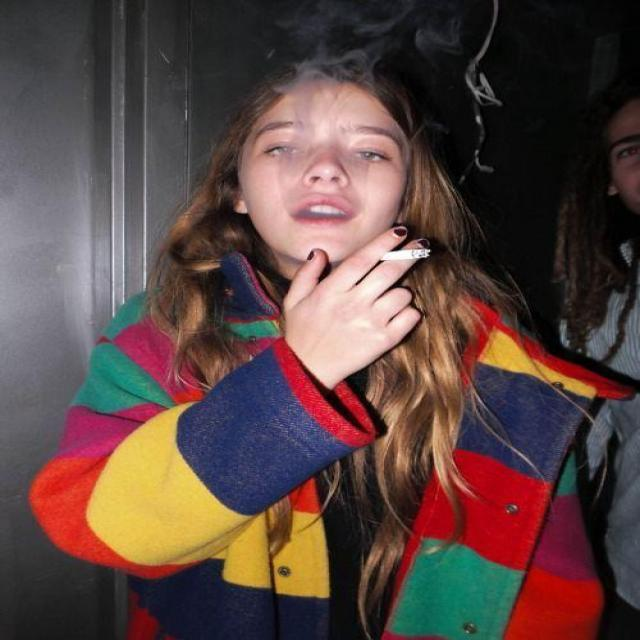cigarette: (357, 232, 469, 271)
